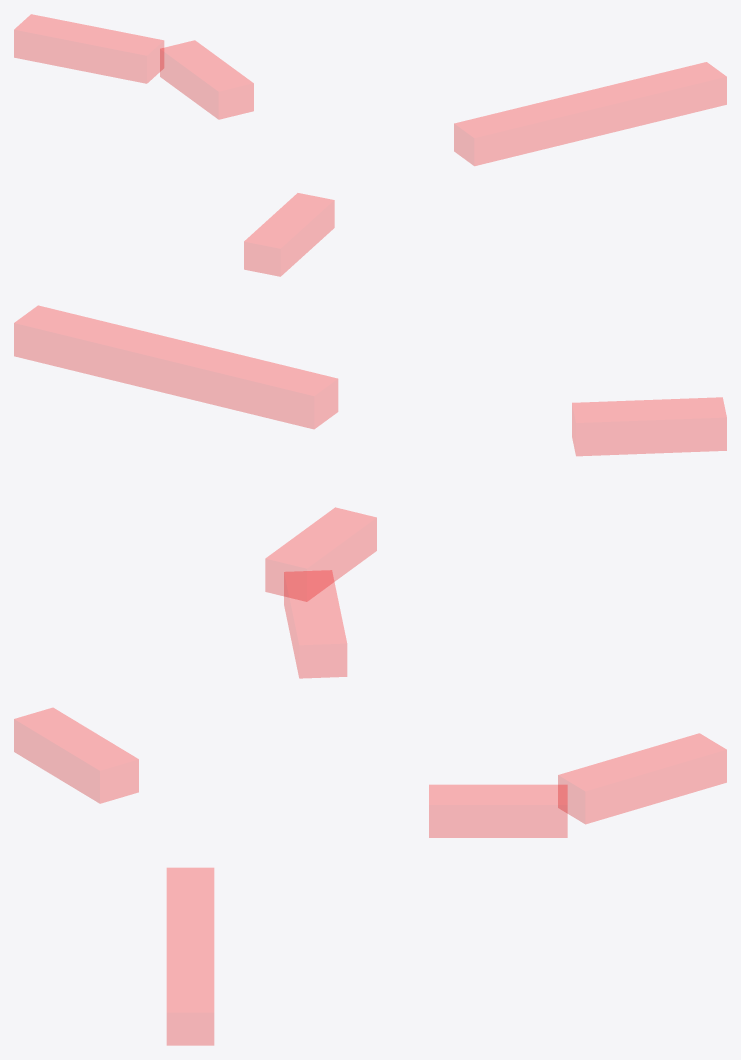
Rendered from s05b_td2-obstacles.glb.
3 renders of one model, top to bottom at view 1: azimuth 30°, elevation 25°; view 2: azimuth 150°, elevation 25°; view 3: azimuth 270°, elevation 25°, orthographic. The views are drawn at different scales.
Visible parts, largest first — view 1: boulder-colonly (×4); view 2: boulder-colonly (×4); view 3: boulder-colonly (×4).
Part boxes in pixels (x1,y1,x2,y2): boulder-colonly (×4): (14,14,726,276); boulder-colonly (×4): (14,305,726,678); boulder-colonly (×4): (14,708,726,1045).
Bounding box in the file's own units: 31.76 × 1.6 × 31.37.
